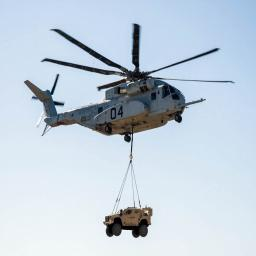helicopter: (24, 23, 238, 146)
